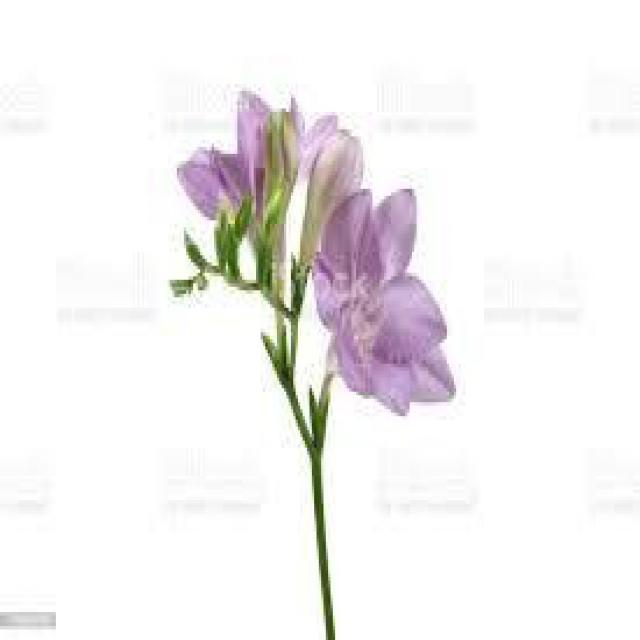freesia: (159, 81, 502, 447)
